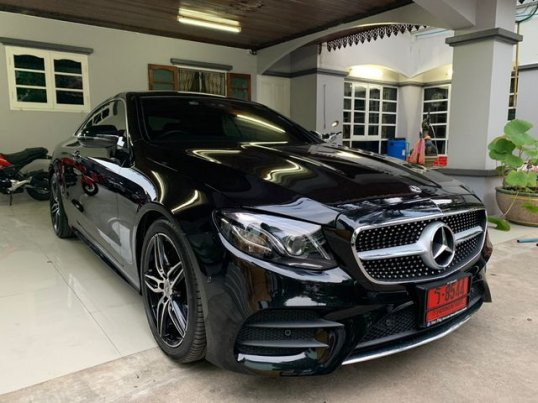sedan: (43, 87, 496, 379)
